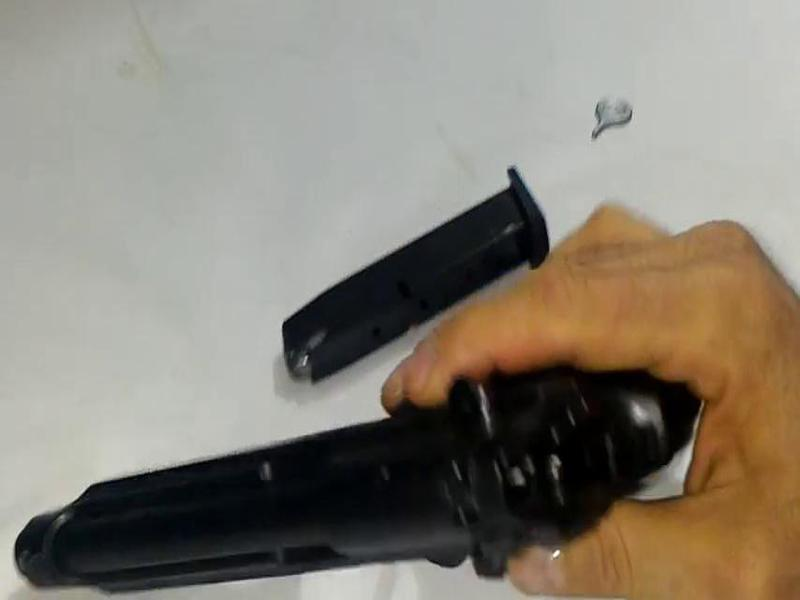Pistola: (31, 336, 715, 600)
